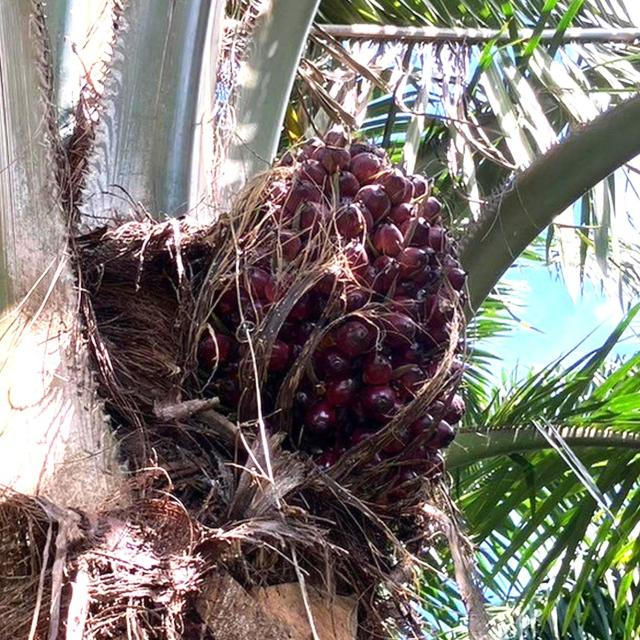ripe: (166, 109, 484, 569)
